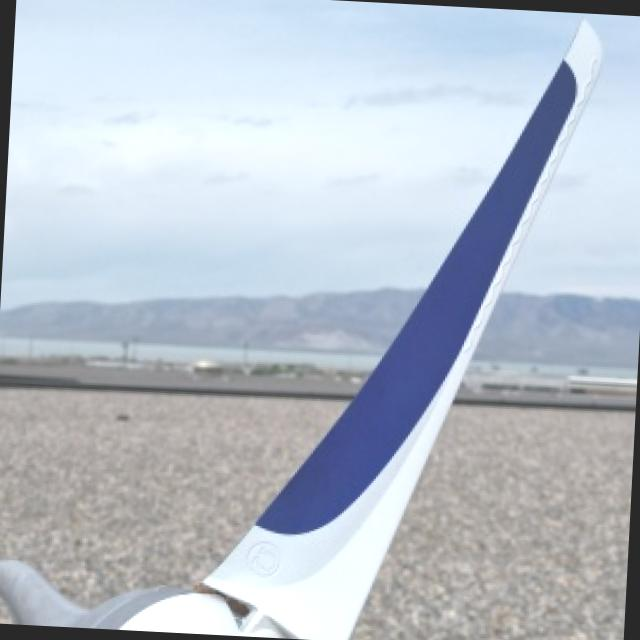healthy: (0, 18, 598, 640)
